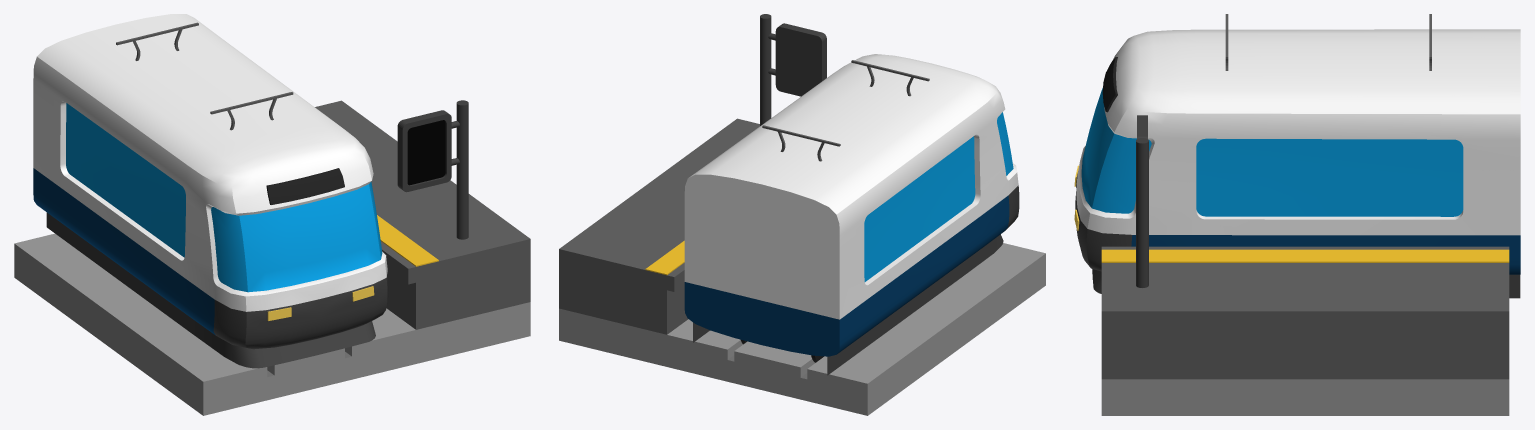
Rendered from station.gltf.
The picture shows the model from 3 angles, left to right: view 1: azimuth 30°, elevation 25°; view 2: azimuth 150°, elevation 25°; view 3: azimuth 270°, elevation 25°; orthographic projection. The views are drawn at different scales.
Visible parts, largest first — view 1: Cube.581; view 2: Cube.581; view 3: Cube.581.
Boxes of the visible parts, left/top/right/bottom form: Cube.581: left=14, top=14, right=530, bottom=415; Cube.581: left=559, top=14, right=1045, bottom=415; Cube.581: left=1074, top=14, right=1520, bottom=415.
Bounding box in the file's own units: 2 × 1.43 × 2.19.
Materials: 1 (1 with a texture image).
